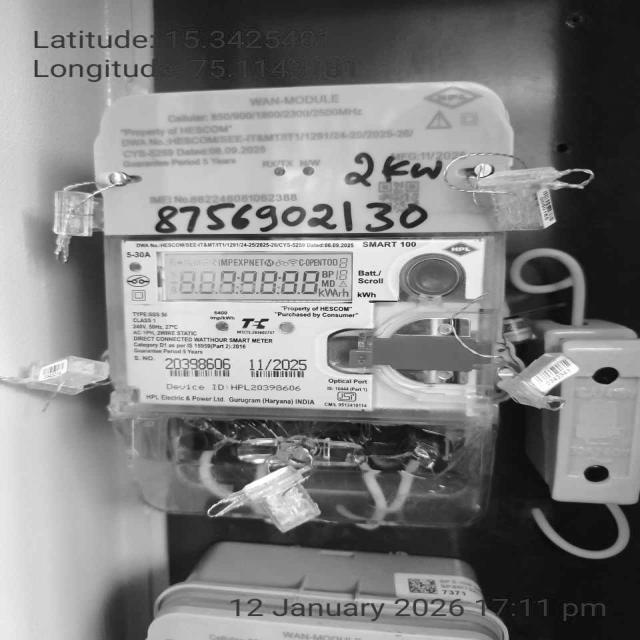meter: (102, 95, 504, 410)
